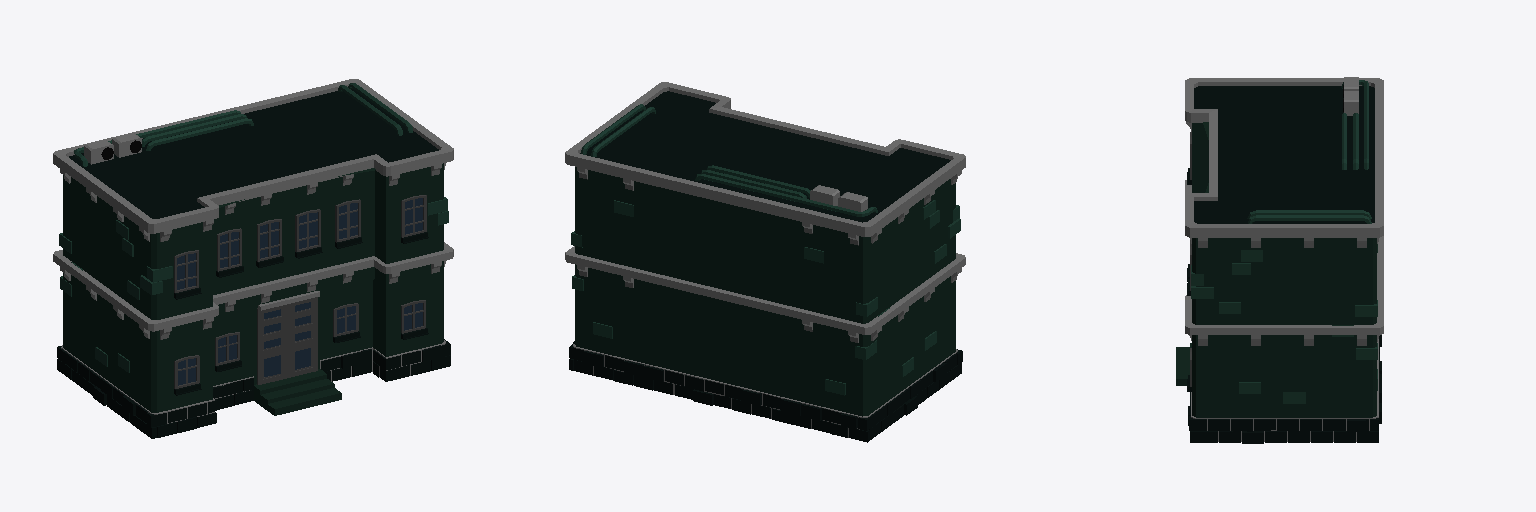
The model's file is 2Story_Wide_Mat.obj.
3 views of the same model, side by side, from view 1: azimuth 30°, elevation 25°; view 2: azimuth 150°, elevation 25°; view 3: azimuth 270°, elevation 25° (orthographic).
Visible parts, largest first — view 1: 2Story_Wide_Mat_Cube.019; view 2: 2Story_Wide_Mat_Cube.019; view 3: 2Story_Wide_Mat_Cube.019.
Part boxes in pixels (bbox=[...]): 2Story_Wide_Mat_Cube.019: bbox=[53, 79, 453, 438]; 2Story_Wide_Mat_Cube.019: bbox=[565, 82, 965, 442]; 2Story_Wide_Mat_Cube.019: bbox=[1176, 77, 1383, 443].
Size of the model in its own units: 3.83 by 2.75 by 2.26.